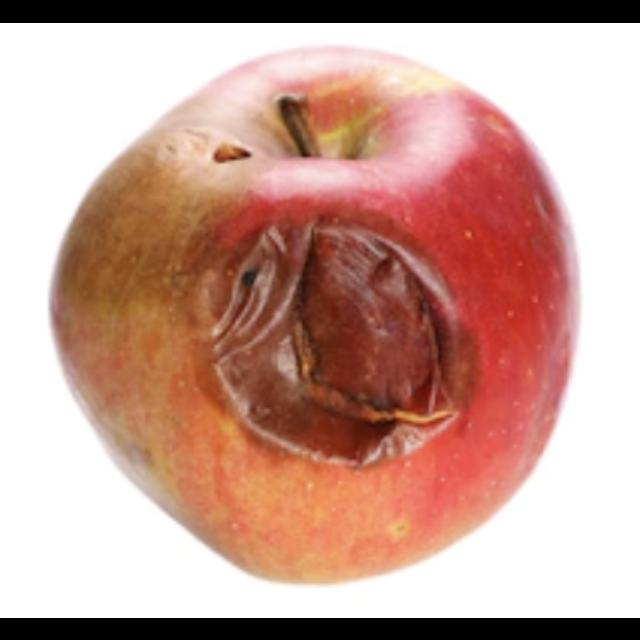Apel Tidak Segar: (29, 37, 588, 585)
